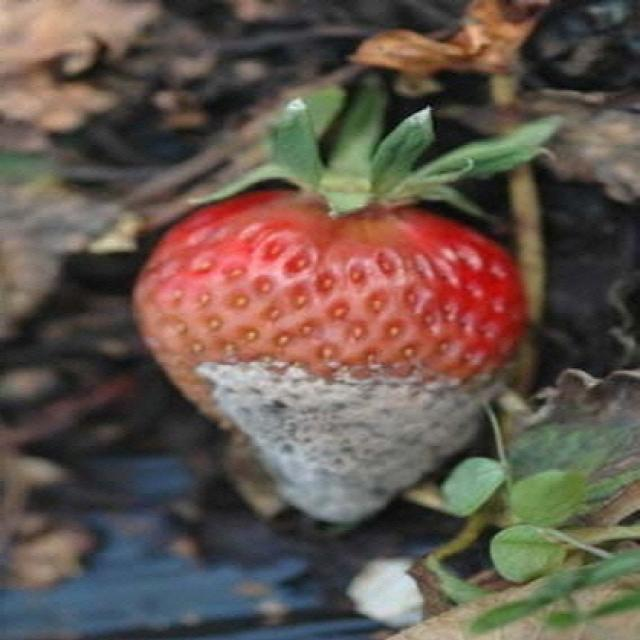Gray Mold: (133, 192, 529, 526)
